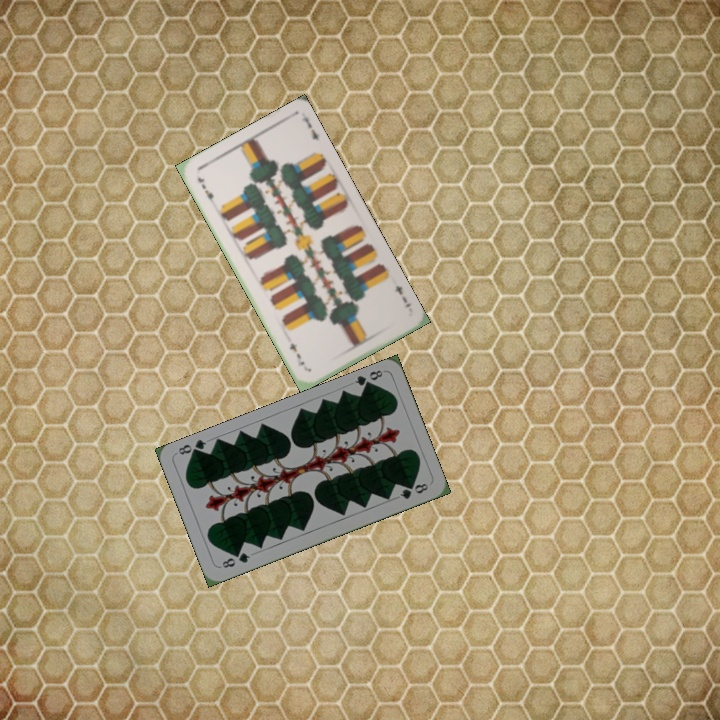E7: (193, 173, 218, 208), (390, 281, 414, 310)
G8: (351, 366, 385, 392), (218, 549, 253, 571)
